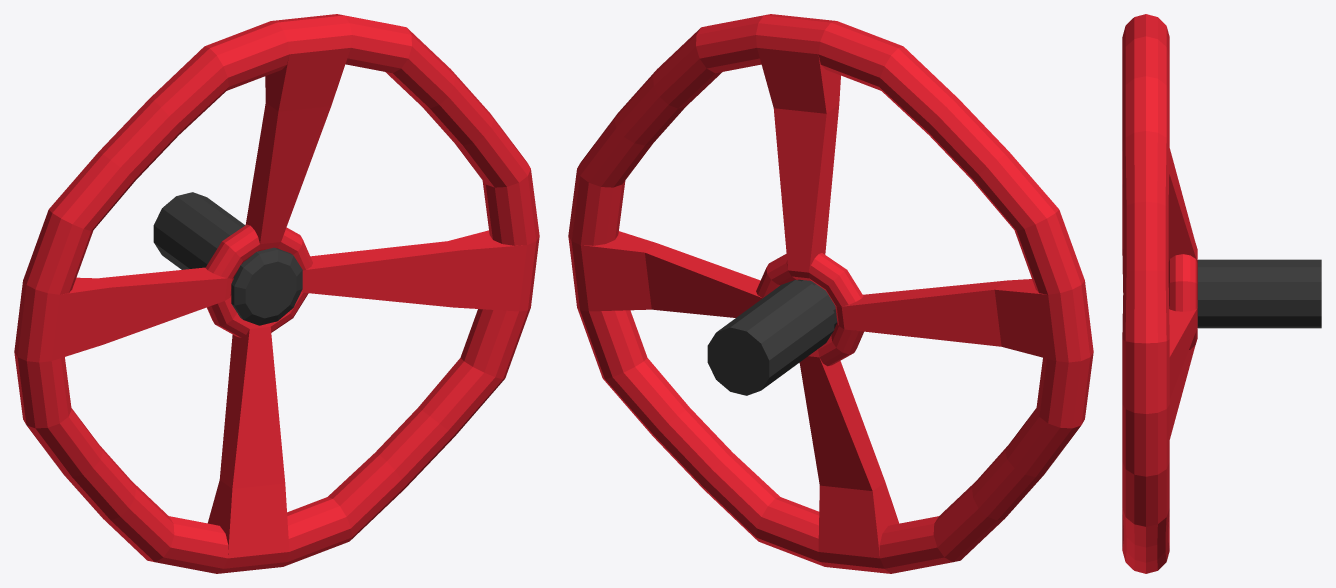
The model's file is props.fbx_valve3.fbx.
3 renders of one model, left to right at view 1: azimuth 30°, elevation 25°; view 2: azimuth 150°, elevation 25°; view 3: azimuth 270°, elevation 25°, orthographic. The views are drawn at different scales.
Parts seen in each view (by area): view 1: Torus.002, Cylinder.022; view 2: Torus.002, Cylinder.022; view 3: Torus.002, Cylinder.022.
Part boxes in pixels (x1,y1,x2,y2): Torus.002: [14, 14, 539, 573]; Cylinder.022: [153, 192, 302, 325]; Torus.002: [568, 14, 1093, 573]; Cylinder.022: [707, 279, 837, 395]; Torus.002: [1122, 14, 1197, 573]; Cylinder.022: [1197, 259, 1321, 328].
Bounding box in the file's own units: 1.21 × 1.21 × 0.4241.
